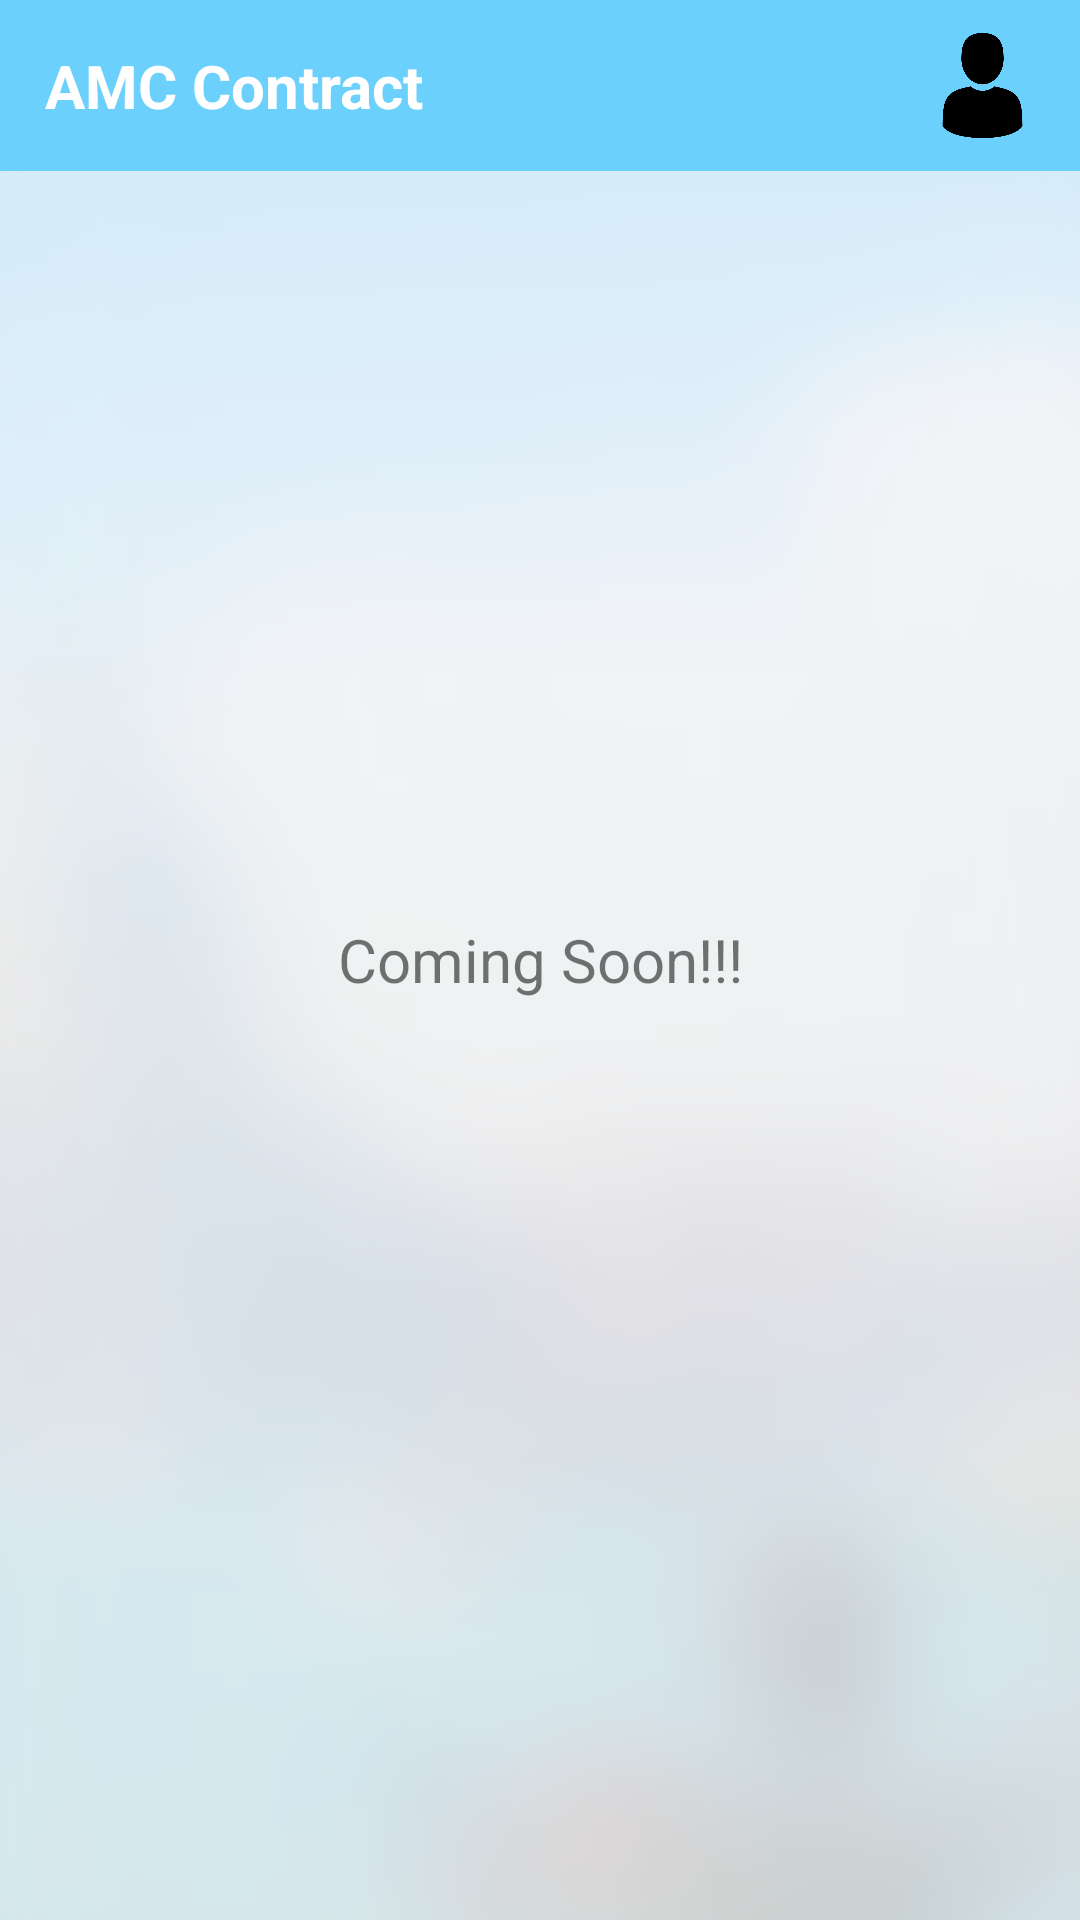

Screen size 1080 × 1920. Icon name, then its box in pixels as box=[x1, y1, x2, y2]:
user: box=[942, 33, 1023, 138]
